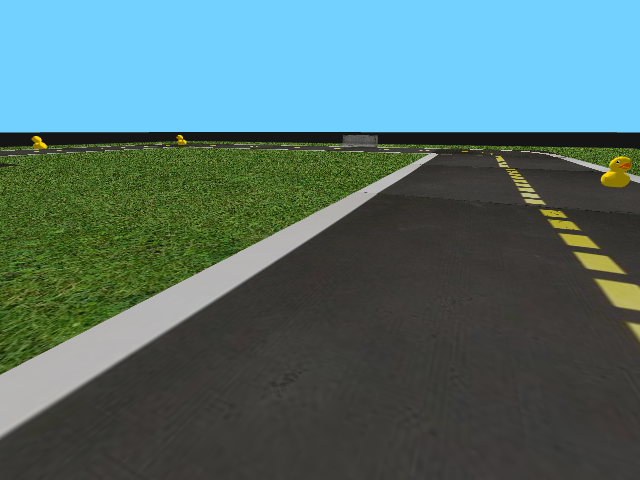Duckie: (600, 155, 631, 188), (31, 135, 48, 149), (175, 134, 188, 146)
